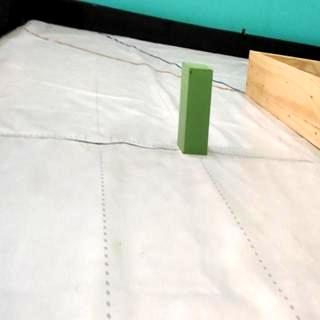greenbox: (177, 58, 214, 154)
